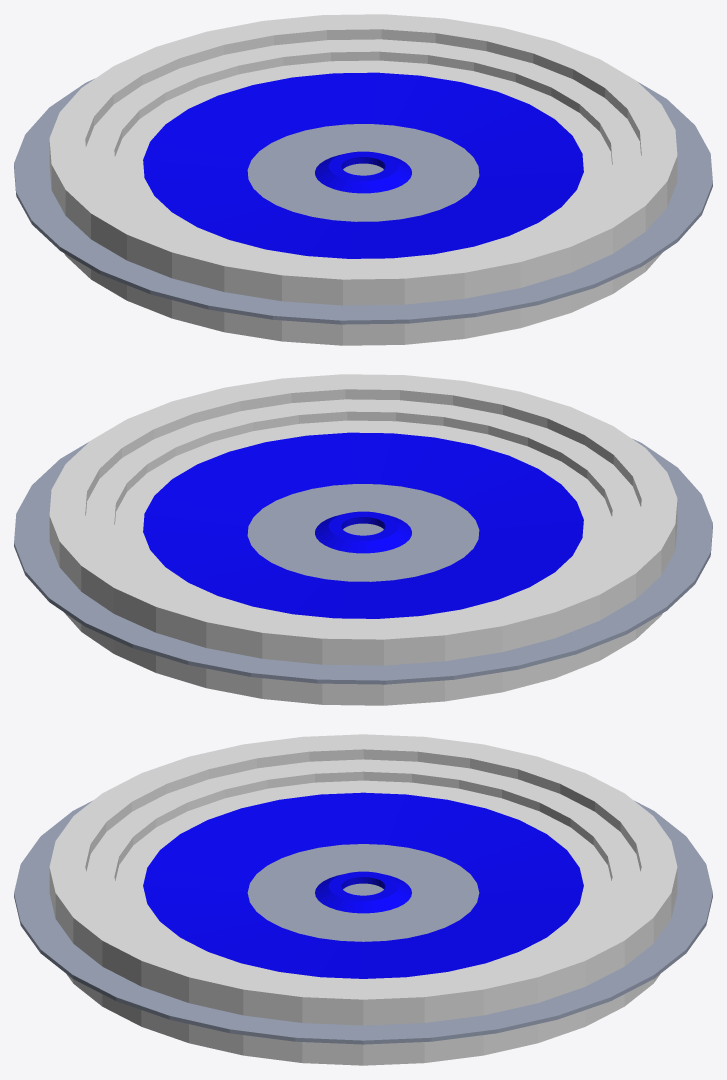
File: Teleporteur bleu.fbx
The picture shows the model from 3 angles, top to bottom: view 1: azimuth 30°, elevation 25°; view 2: azimuth 150°, elevation 25°; view 3: azimuth 270°, elevation 25°; orthographic projection.
Parts seen in each view (by area): view 1: Cylinder, Cylinder.001, Cylinder.002; view 2: Cylinder, Cylinder.001, Cylinder.002; view 3: Cylinder, Cylinder.001, Cylinder.002.
Part boxes in pixels (<box>): Cylinder: <box>49,14,677,345</box>; Cylinder.001: <box>143,72,583,258</box>; Cylinder.002: <box>14,78,712,324</box>; Cylinder: <box>49,374,677,705</box>; Cylinder.001: <box>143,432,583,618</box>; Cylinder.002: <box>14,438,712,684</box>; Cylinder: <box>49,734,677,1065</box>; Cylinder.001: <box>143,792,583,978</box>; Cylinder.002: <box>14,800,712,1044</box>.
Bounding box in the file's own units: 223 × 23.2 × 223.
